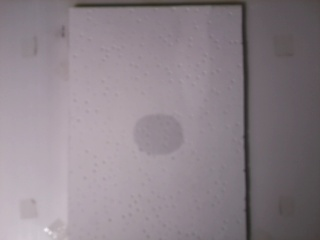Water_detected: (132, 124, 186, 163)
